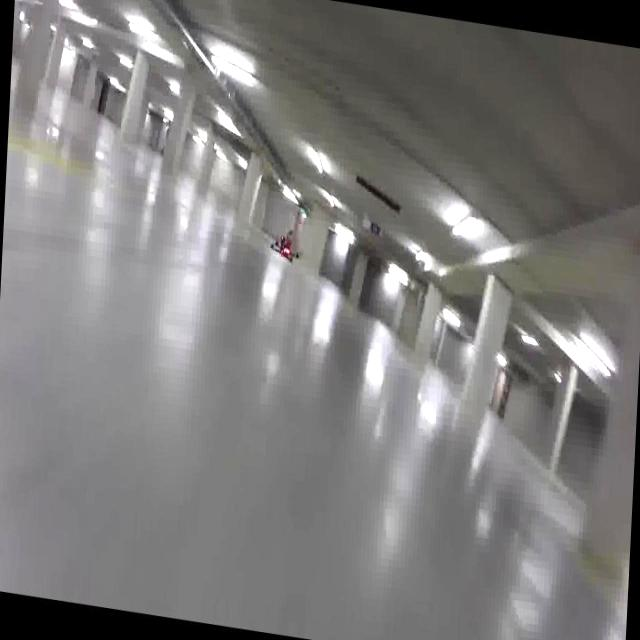drone: (265, 217, 307, 267)
